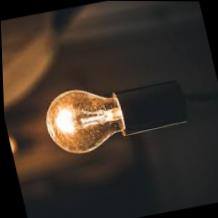Bulb: (32, 57, 198, 168)
